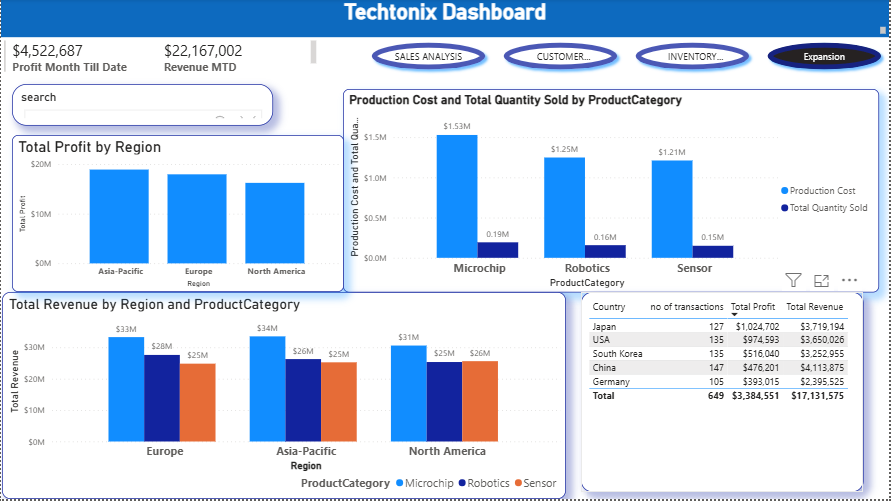

This screenshot's page, from the dashboard's own definition file:
{"tool":"powerbi","page":{"name":"Expansion","canvas":[1280,720],"ordinal":3},"visuals":[{"type":"multiRowCard","fields":{"Values":["Measures (2).Profit Month Till Date","Measures (2).Revenue MTD"]},"box":[0,55.2,458.6,55.2],"z":0},{"type":"pageNavigator","box":[525.9,55.2,753.4,55.2],"z":1000},{"type":"textSearchSlicerF85E2E78BE4A4D7D9F99ED75B5D71C85","title":"search","fields":{"fields":["product dim.ProductName"]},"box":[15.5,122.4,375.9,60.3],"z":2000},{"type":"clusteredColumnChart","fields":{"Y":["Measures (2).Production Cost","Measures (2).Total Quantity Sold"],"Category":["product dim.ProductCategory"]},"box":[493.1,129.3,772.4,293.1],"z":3000},{"type":"clusteredColumnChart","fields":{"Y":["Measures (2).Total Revenue"],"Category":["location dim.Region"],"Series":["product dim.ProductCategory"]},"box":[1.7,422.4,812.1,298.3],"z":4000},{"type":"clusteredColumnChart","fields":{"Y":["Measures (2).Total Profit"],"Category":["location dim.Region"]},"box":[15.5,196.6,477.6,225.9],"z":5000},{"type":"tableEx","fields":{"Values":["location dim.Country","Measures (2).no of transactions","Measures (2).Total Profit","Measures (2).Total Revenue"]},"box":[834.5,422.4,406.9,287.9],"z":6000},{"type":"textbox","title":"Techtonix Dashboard","box":[0,0,1279.3,55.2],"z":7000}]}

Visuals, with their boxes in screenshot pixels (x1, y1, x2, y2), scaled from the page's 1280x720 canvas onto the 891x501 screenshot:
multiRowCard - Measures (2).Profit Month Till Date x Measures (2).Revenue MTD: bbox=(0, 38, 319, 77)
pageNavigator: bbox=(366, 38, 890, 77)
"search" textSearchSlicerF85E2E78BE4A4D7D9F99ED75B5D71C85: bbox=(11, 85, 272, 127)
clusteredColumnChart - Measures (2).Production Cost x Measures (2).Total Quantity Sold: bbox=(343, 90, 881, 294)
clusteredColumnChart - Measures (2).Total Revenue x location dim.Region: bbox=(1, 294, 566, 500)
clusteredColumnChart - Measures (2).Total Profit x location dim.Region: bbox=(11, 137, 343, 294)
tableEx - location dim.Country x Measures (2).no of transactions: bbox=(581, 294, 864, 494)
"Techtonix Dashboard" textbox: bbox=(0, 0, 890, 38)
